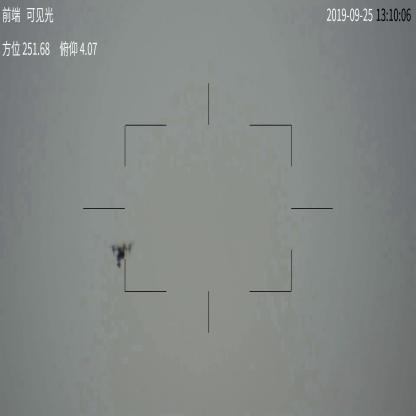uav: (108, 240, 134, 269)
